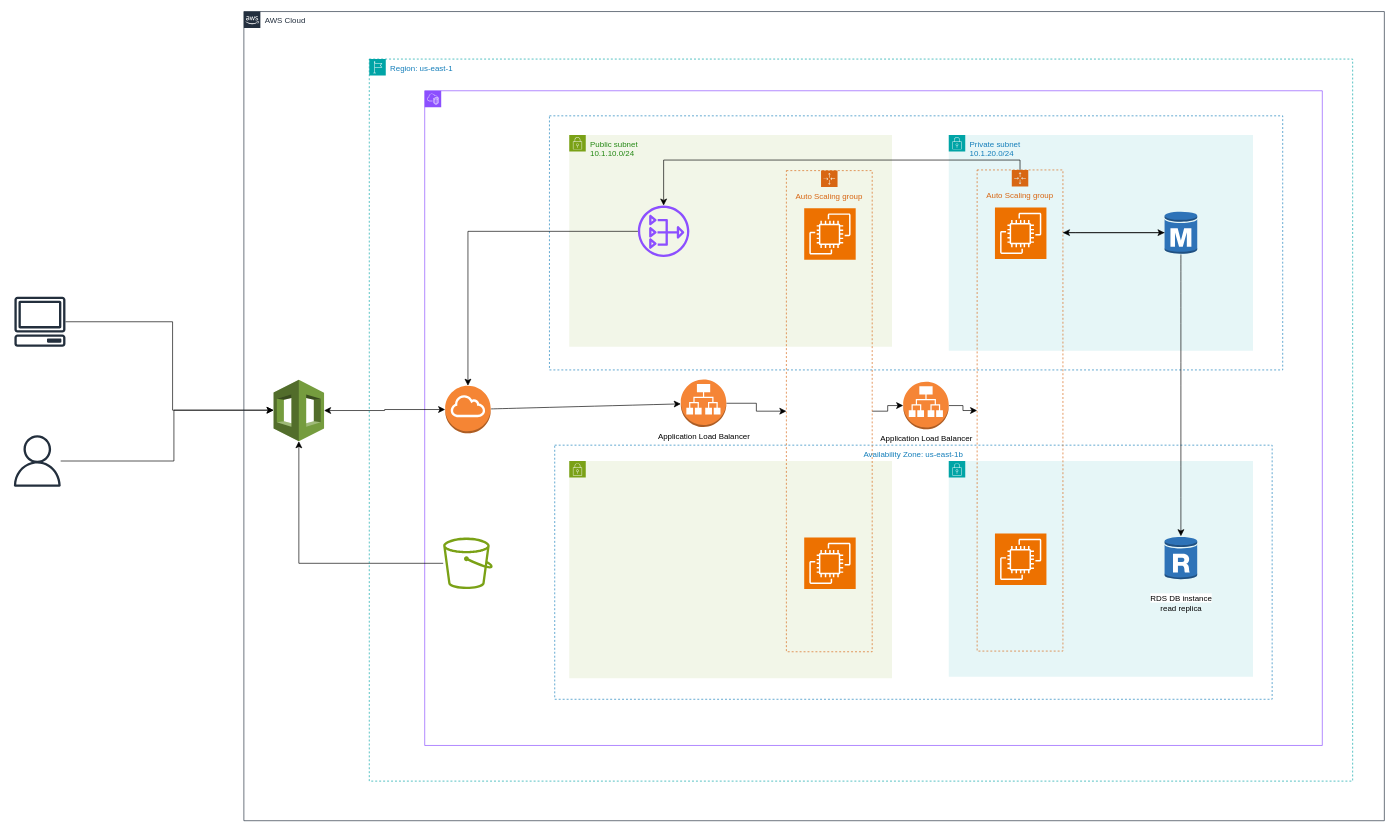
Some shapes in this 1396 by 832 pixel diagram are drawn without their labels. The shapes that lost their labels are listed below. From the top down, each one's box as (x1, y1, x2, y2) in pixels, then its label:
(549, 115, 1283, 370): Availability Zone: us-east-1a
(1164, 210, 1197, 254): RDS DB instance
(424, 90, 1322, 745): VPC CIDR Block 10.1.0.0/16
(569, 460, 892, 678): Public subnet 10.1.11.0/24
(948, 460, 1253, 677): Private subnet 10.1.21.0/24
